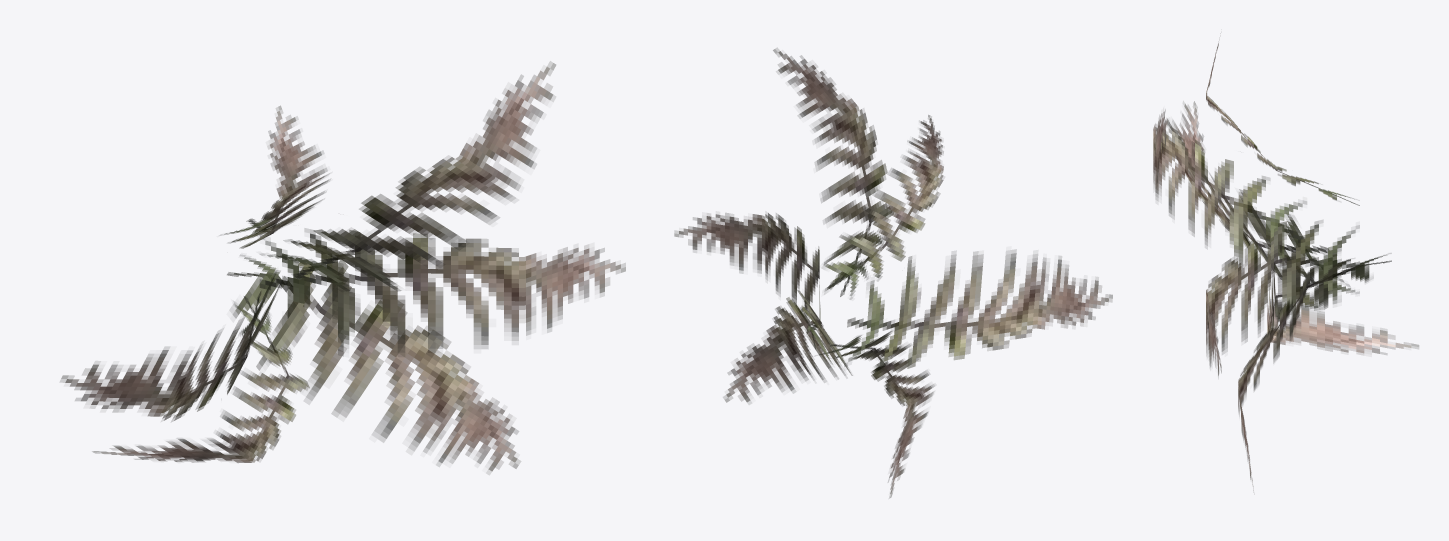
3 views of the same model, side by side, from view 1: azimuth 30°, elevation 25°; view 2: azimuth 150°, elevation 25°; view 3: azimuth 270°, elevation 25° (orthographic). The views are drawn at different scales.
Visible parts, largest first — view 1: model_Object27; view 2: model_Object27; view 3: model_Object27.
Boxes of the visible parts, x1,y1,x2,y2 form: model_Object27: (60, 61, 625, 471); model_Object27: (674, 48, 1112, 497); model_Object27: (1153, 33, 1418, 490).
Bounding box in the file's own units: 1.36 × 1.18 × 0.6552.
1 material, 1 textured.
